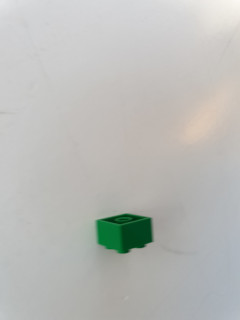2x2 green: (94, 212, 154, 254)
